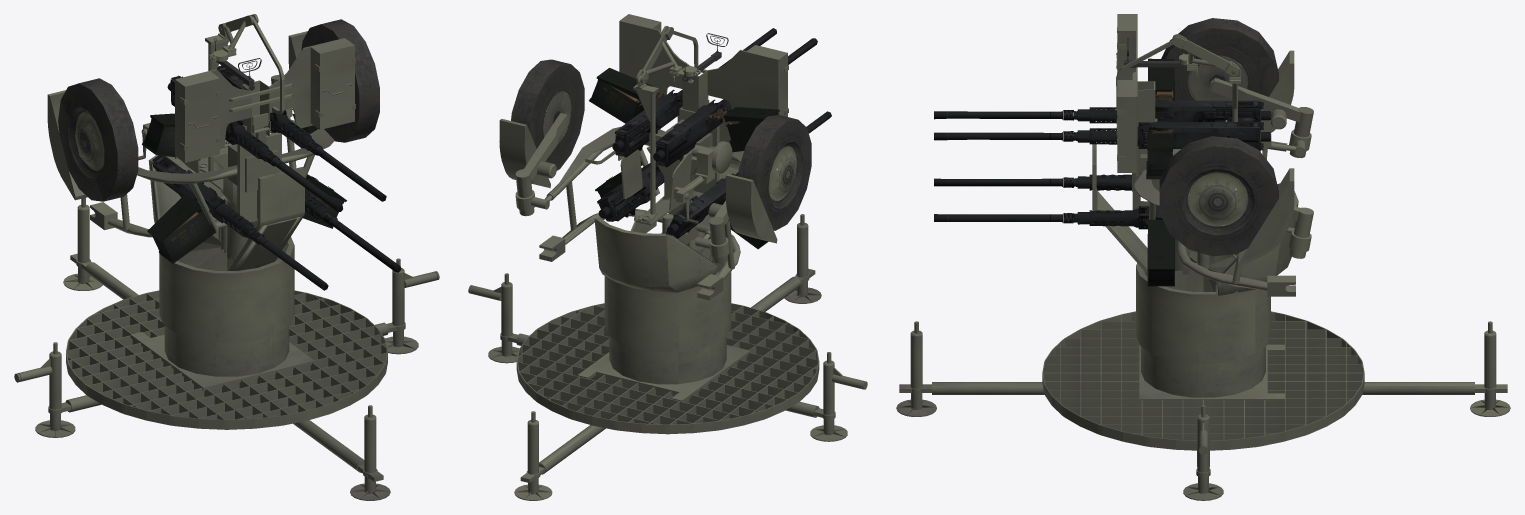
3 views of the same model, side by side, from view 1: azimuth 30°, elevation 25°; view 2: azimuth 150°, elevation 25°; view 3: azimuth 270°, elevation 25° (orthographic). The views are drawn at different scales.
Parts seen in each view (by area): view 1: M71_guns, M71_Body, M71_turret; view 2: M71_guns, M71_Body, M71_turret; view 3: M71_guns, M71_Body, M71_turret.
Part boxes in pixels (x1,y1,x2,y2): M71_guns: (47, 14, 401, 290); M71_Body: (14, 198, 439, 500); M71_turret: (143, 123, 304, 342); M71_guns: (499, 14, 831, 300); M71_Body: (468, 214, 867, 500); M71_turret: (585, 120, 739, 352); M71_guns: (934, 14, 1313, 296); M71_Body: (896, 311, 1510, 500); M71_turret: (1092, 133, 1298, 363).
Size of the model in its own units: 2.61 by 2.25 by 3.3.
2 materials, 2 textured.
